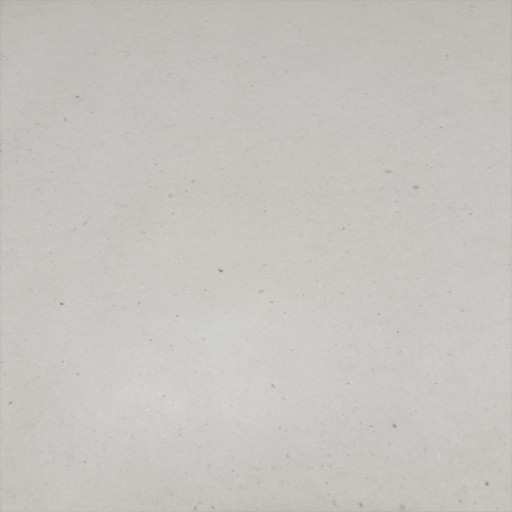lego: (212, 209, 299, 302)
